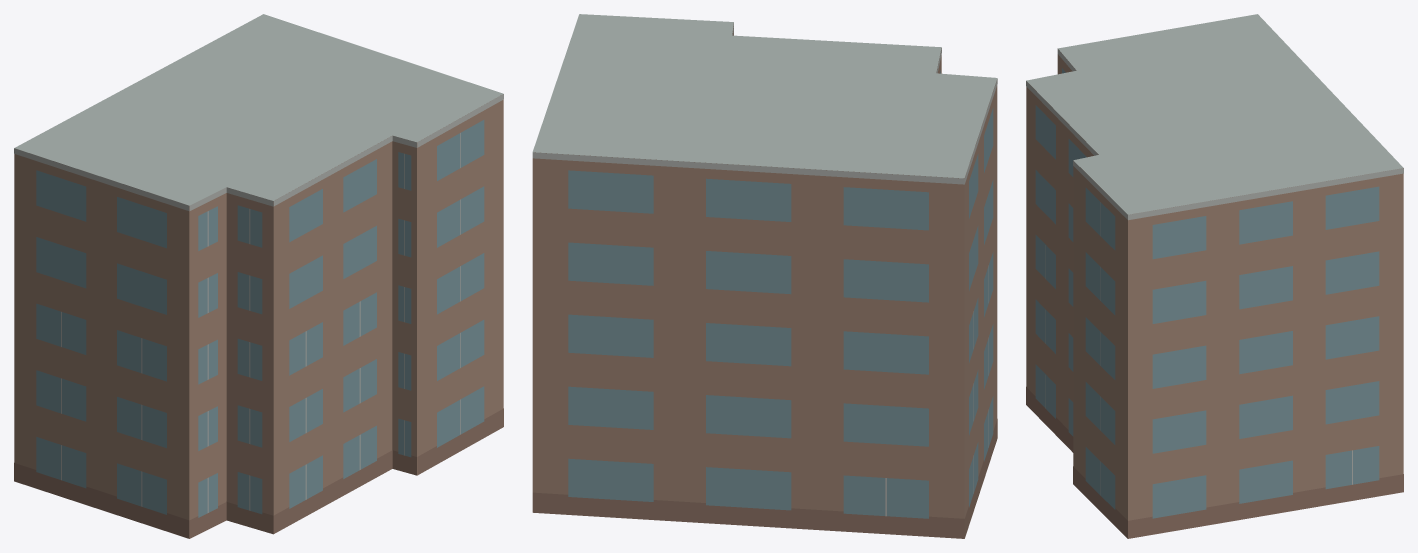
Rendered from survey-upis-32599907.glb.
3 views of the same model, side by side, from view 1: azimuth 30°, elevation 25°; view 2: azimuth 150°, elevation 25°; view 3: azimuth 270°, elevation 25° (orthographic). The views are drawn at different scales.
Parts seen in each view (by area): view 1: survey-upis-32599907.tmp; view 2: survey-upis-32599907.tmp; view 3: survey-upis-32599907.tmp.
Part boxes in pixels (bbox=[...]): survey-upis-32599907.tmp: bbox=[14, 14, 503, 538]; survey-upis-32599907.tmp: bbox=[532, 14, 997, 538]; survey-upis-32599907.tmp: bbox=[1026, 14, 1403, 538].
Bounding box in the file's own units: 19.14 × 14.4 × 15.22.
